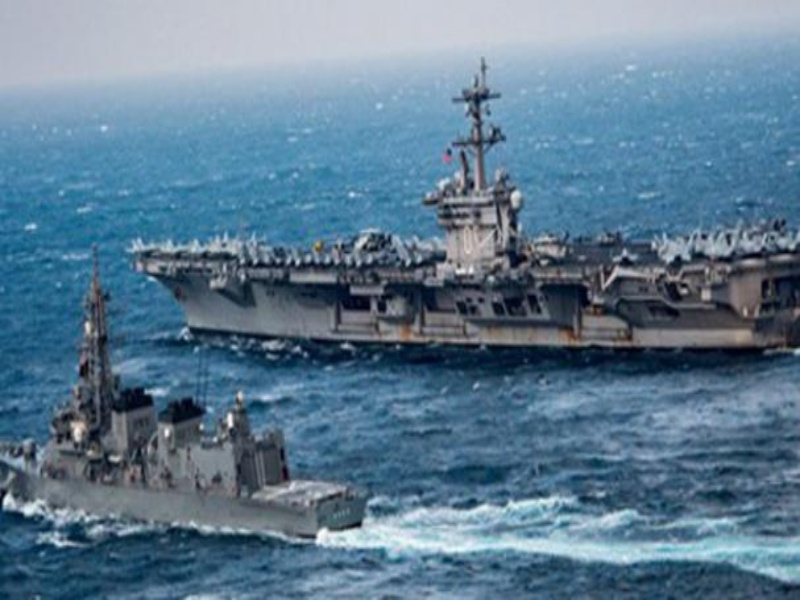carrier: (130, 172, 794, 353)
cruise: (12, 339, 360, 543)
